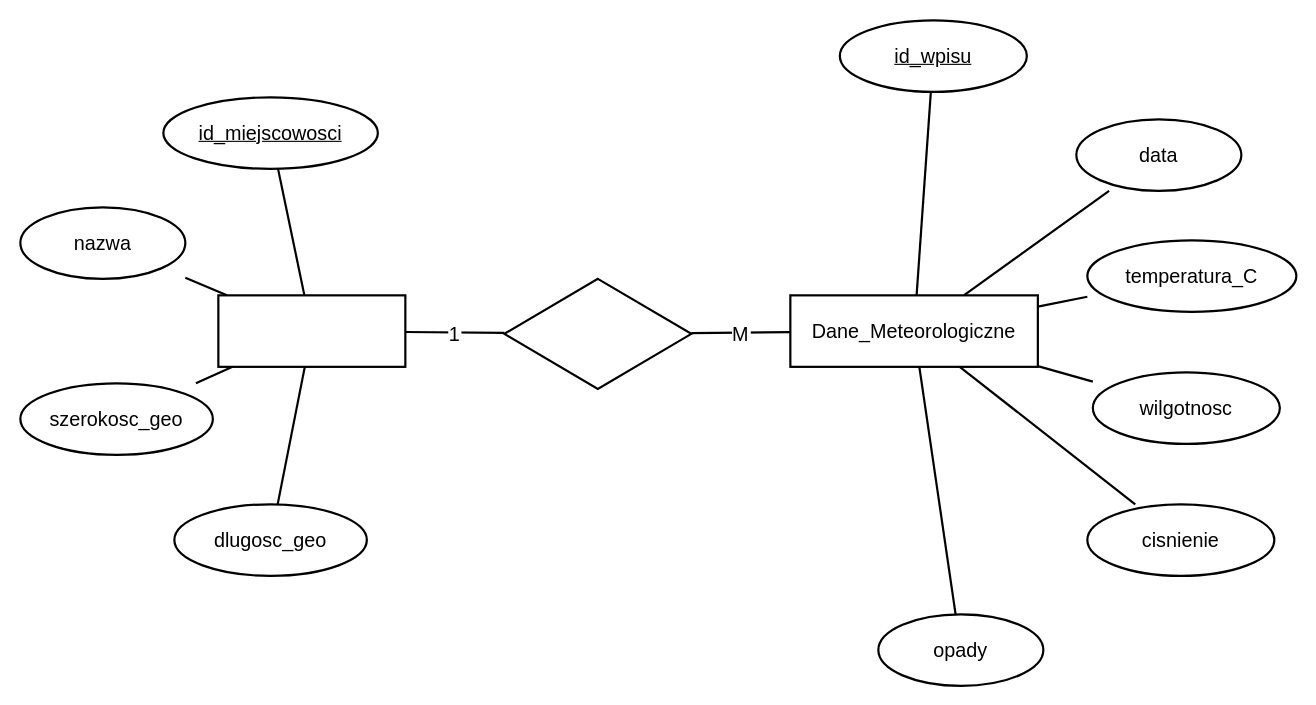
The diagram is 1316 pixels wide and 705 high, and some of its shapes have lost their labels. Here are the shapes that lost their labels. From the top down, the centre of each, then its label:
the point at 311,330: Miejscowosc
the point at 597,333: posiada
